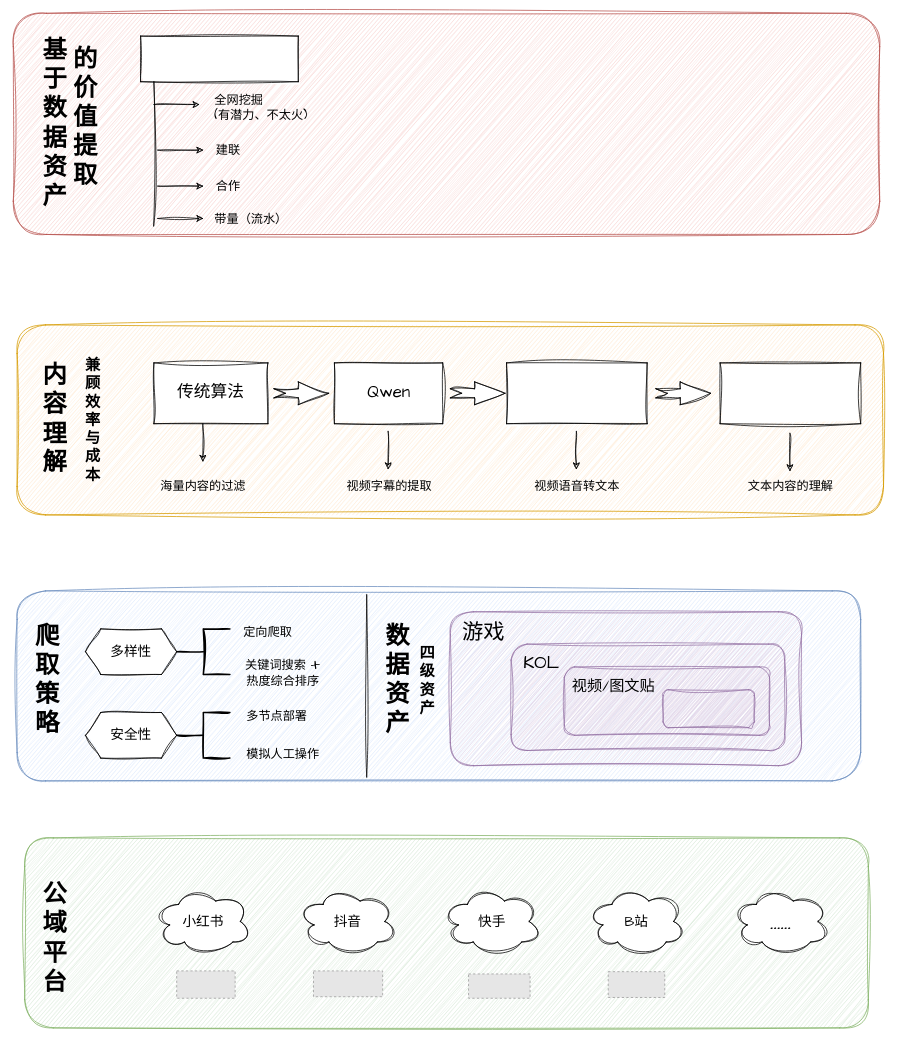
Some shapes in this 897 by 1041 pixel diagram are drawn without their labels. Grey dashed boxes stand in for pictures. The box of each missing label's shape, as (x1, y1, x2, y2) in pixels:
Google Gemini: (719, 362, 861, 424)
OpenAI Whisper: (506, 362, 647, 424)
价值KOL挖掘: (140, 35, 298, 82)
评论集合: (662, 689, 754, 728)
